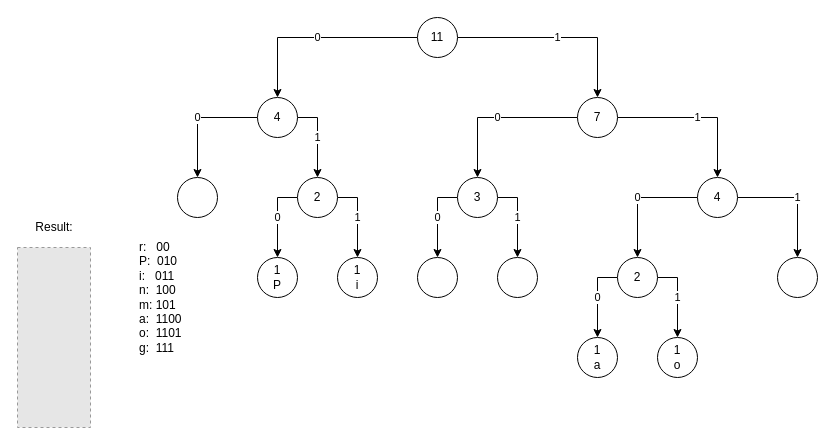
This 835x445 diagram has some shape labels left out. Grey dashed boxes stand in for pictures. Each missing label, with the centre of its shape:
"1 n" goes at point (437, 277).
"2 g" goes at point (797, 277).
"2 m" goes at point (517, 277).
"2 r" goes at point (197, 197).
